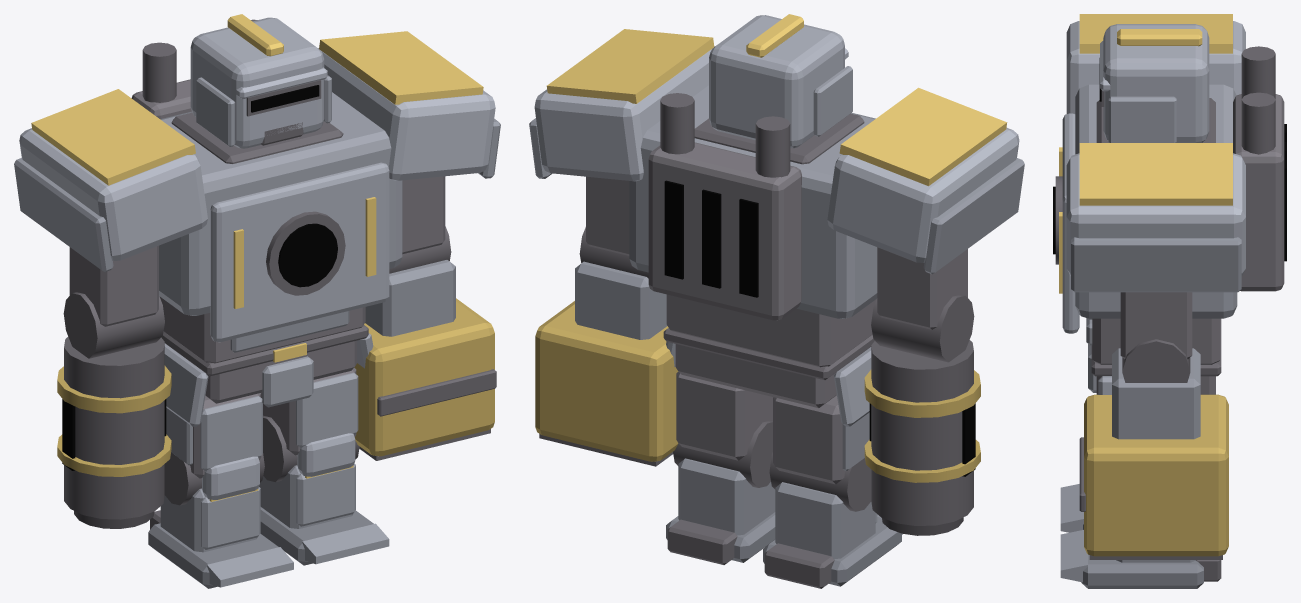
The model's file is juggernaut.glb.
3 views of the same model, side by side, from view 1: azimuth 30°, elevation 25°; view 2: azimuth 150°, elevation 25°; view 3: azimuth 270°, elevation 25° (orthographic).
Visible parts, largest first — view 1: juggernaut*1.002, gold*0.75, juggernaut.010, gunmetal*0.9, juggernaut*1.005, juggernaut*1.004, juggernaut*1.2, gold.007, gold.006, gunmetal*1.006, juggernaut*0.008, juggernaut*0.010 (+43 smaller); view 2: gunmetal*1.4, gold*0.75, gunmetal*0.9, juggernaut.010, juggernaut*1.2, juggernaut*1.005, juggernaut*1.004, gold.007, gunmetal*1.004, gold.006, gunmetal*1.3, juggernaut*0.010 (+30 smaller); view 3: gold*0.75, gold.006, juggernaut*0.9, juggernaut*1.2, juggernaut*1.004, gunmetal*1.4, juggernaut*0.010, juggernaut.010, gunmetal*1.005, juggernaut*1.005, juggernaut*0.7, juggernaut.011 (+17 smaller).
Part boxes in pixels (box(x1,y1,x2,y2)): juggernaut*1.002: box(210, 162, 389, 342); gold*0.75: box(354, 298, 494, 456); juggernaut.010: box(159, 92, 402, 315); gunmetal*0.9: box(64, 337, 164, 519); juggernaut*1.005: box(19, 128, 207, 260); juggernaut*1.004: box(318, 48, 495, 180); juggernaut*1.2: box(190, 17, 324, 148); gold.007: box(31, 89, 195, 185); gold.006: box(319, 31, 483, 104); gunmetal*1.006: box(69, 245, 158, 326); juggernaut*0.008: box(14, 158, 113, 272); juggernaut*0.010: box(365, 260, 455, 336); gunmetal*1.4: box(648, 142, 801, 320); gold*0.75: box(535, 301, 678, 461); gunmetal*0.9: box(871, 340, 973, 525); juggernaut.010: box(629, 85, 877, 318); juggernaut*1.2: box(709, 15, 844, 148); juggernaut*1.005: box(827, 128, 1019, 262); juggernaut*1.004: box(534, 46, 714, 181); gold.007: box(839, 87, 1007, 186); gunmetal*1.004: box(666, 294, 876, 367); gold.006: box(546, 29, 714, 103); gunmetal*1.3: box(676, 371, 772, 460); juggernaut*0.010: box(575, 261, 667, 339); gold*0.75: box(1084, 394, 1228, 556); gold.006: box(1079, 143, 1232, 205); juggernaut*0.9: box(1071, 237, 1241, 292); juggernaut*1.2: box(1103, 24, 1209, 142); juggernaut*1.004: box(1066, 153, 1245, 276); gunmetal*1.4: box(1233, 94, 1284, 291); juggernaut*0.010: box(1112, 348, 1200, 439); juggernaut.010: box(1075, 84, 1237, 318); gunmetal*1.005: box(1120, 292, 1192, 359); juggernaut*1.005: box(1066, 21, 1245, 113); juggernaut*0.7: box(1081, 554, 1203, 588); juggernaut.011: box(1108, 96, 1176, 142).
Bounding box in the file's own units: 2.78 × 3.34 × 1.37.
